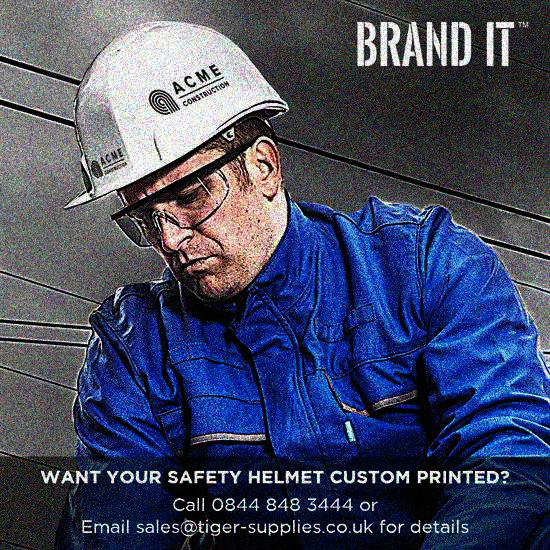helmet: (56, 17, 293, 297)
